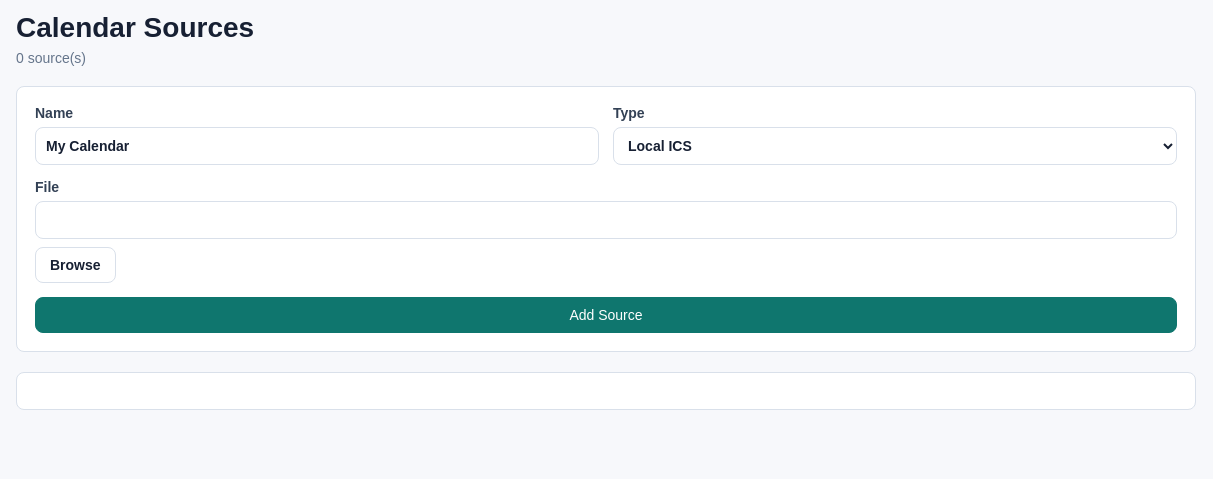
Test case: desktop UI › validates sources add form input
Click the button "Add Source" at (606, 315), box [35,297,1177,333]
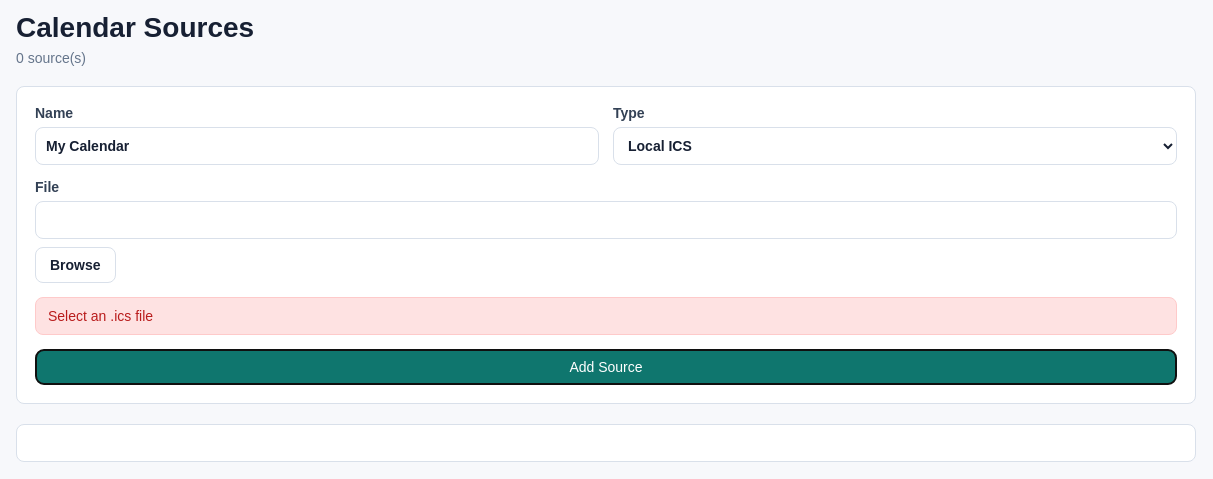
Expected: the text "Select an .ics file" is shown, [35,297,1177,335]
